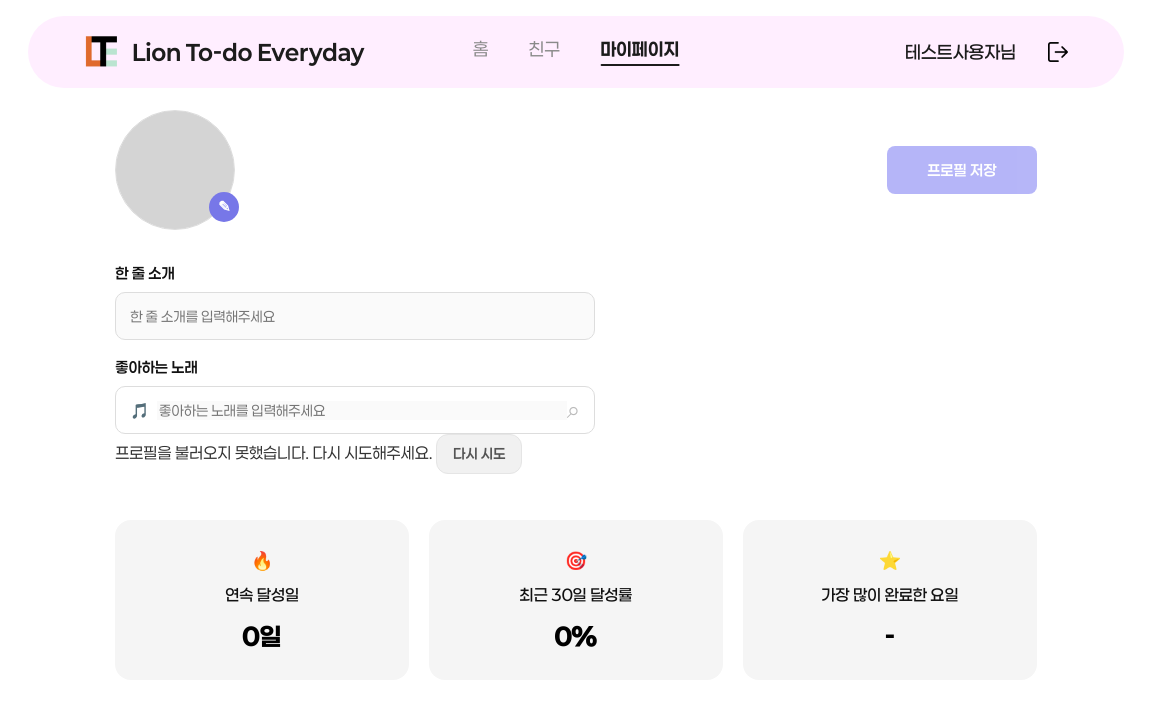
Test: 프로필 초기 조회 실패 시 기본값을 서버에 덮어쓰지 않고 재시도할 수 있다
Expected: the message "프로필을 불러오지 못했습니다. 다시 시도해주세요. 다시 시도" is shown, [115,434,522,474]
Expected: the button "프로필 저장" is disabled, [887,146,1037,194]
Click the button "다시 시도": x=479, y=454 [436,434,522,474]
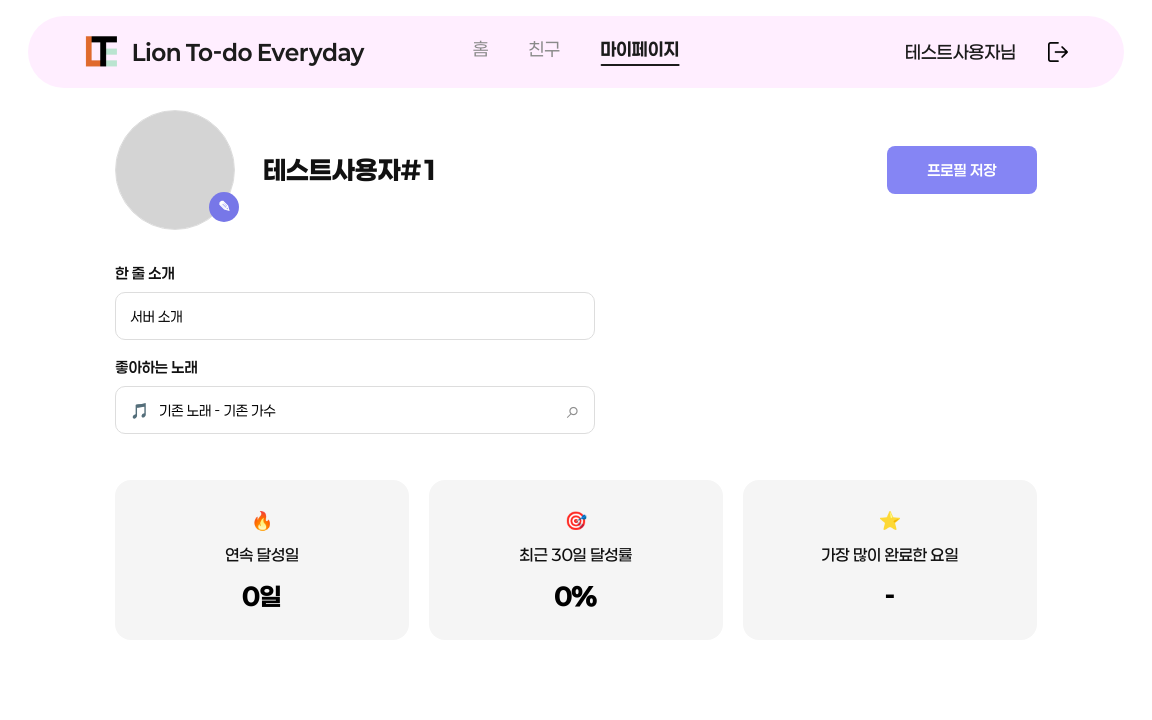
Now the field showing "서버 소개" is shown, box [115,292,595,340]
Now the button "프로필 저장" is enabled, box [887,146,1037,194]
